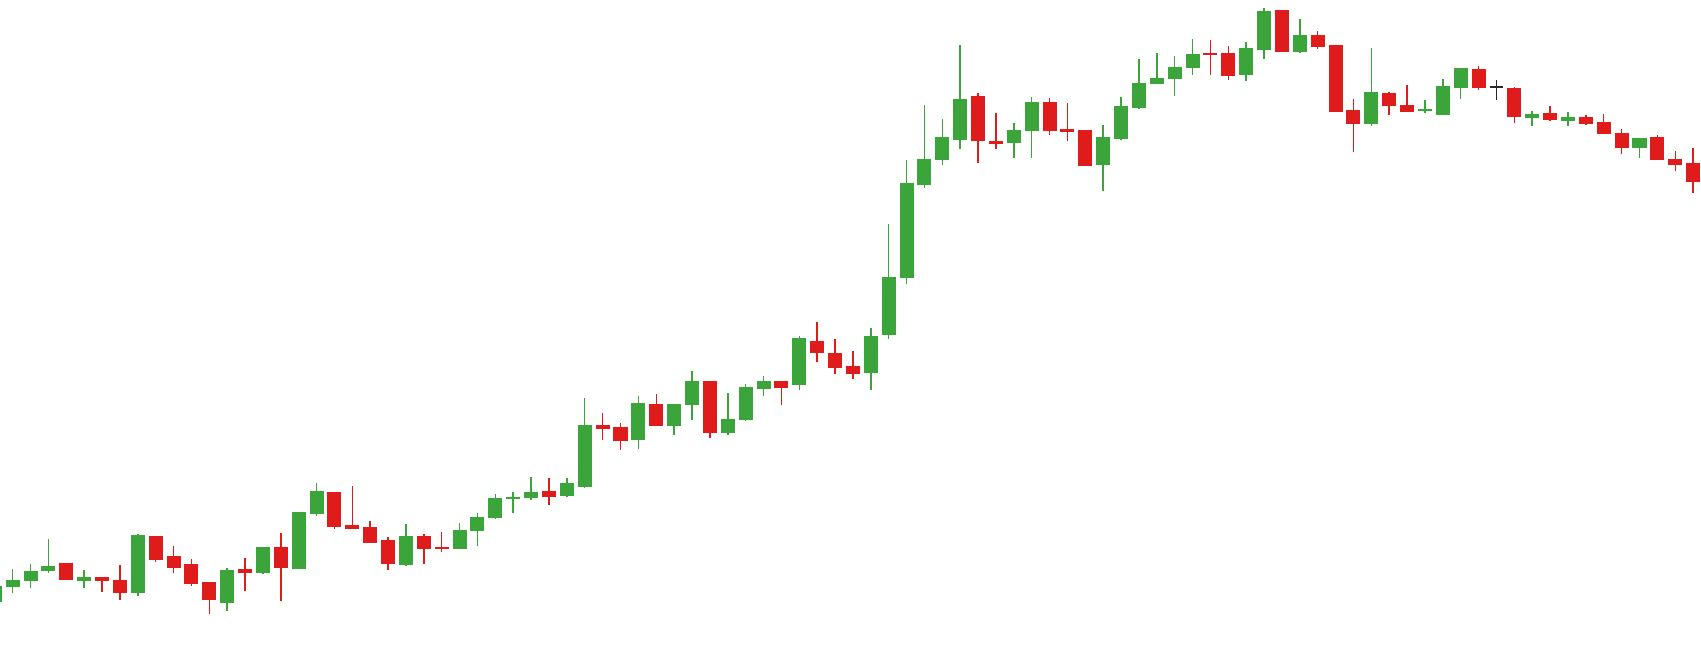buy: (1007, 106, 1114, 191)
